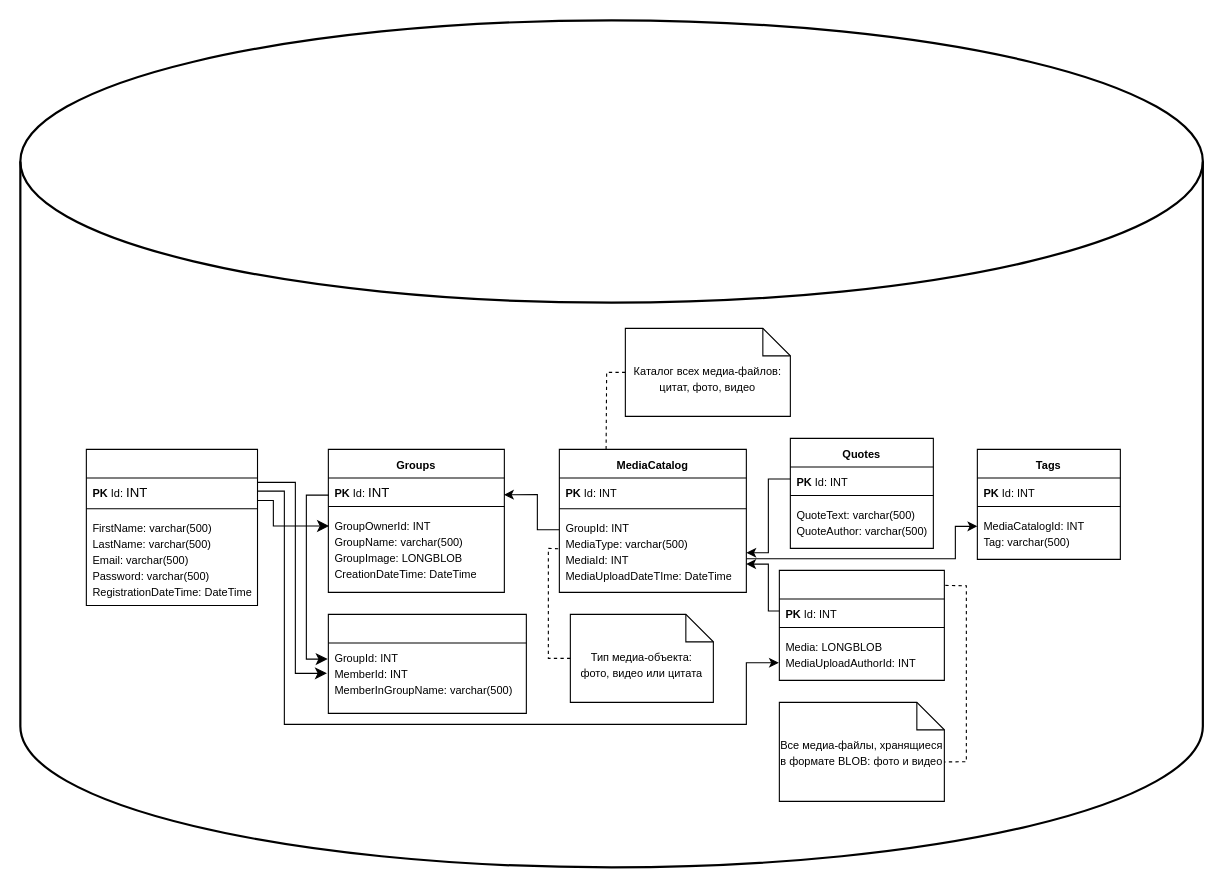
The diagram is 1222 pixels wide and 887 high, and some of its shapes have lost their labels. The shapes that lost their labels are listed below. From the top down, each one's box as (x1, y1, x2, y2) in pixels, then its label:
(85, 448, 258, 606): Users
(778, 569, 944, 680): MediaFiles
(327, 613, 526, 713): GroupsMembers
